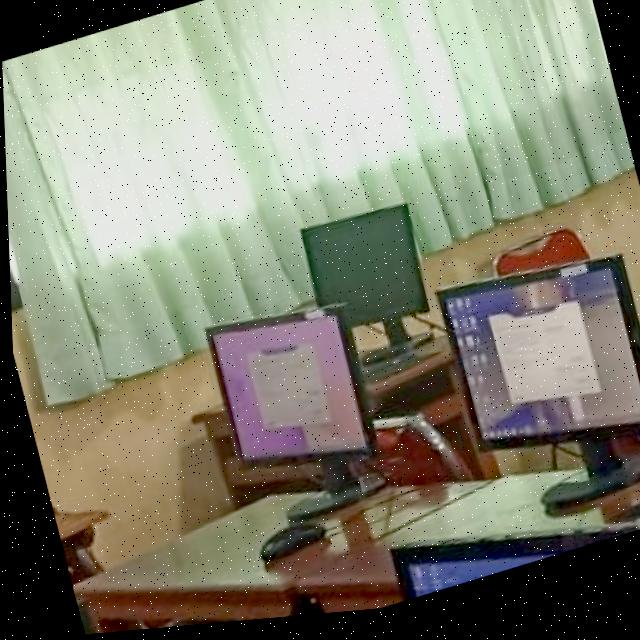offscreen: (299, 211, 424, 333)
onscreen: (435, 266, 640, 456), (204, 312, 369, 463)
